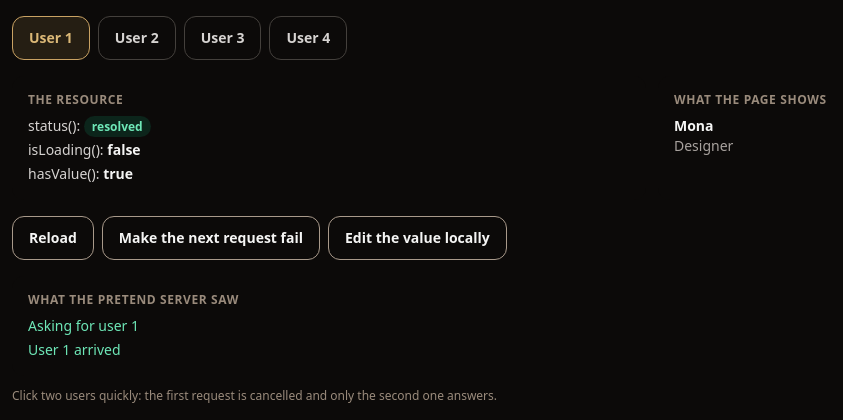
Scenario: ResourceDemoComponent › switches to "local" when the value is edited by hand
Click the button "Edit the value locally".
click(417, 238)  # box [328, 216, 507, 260]
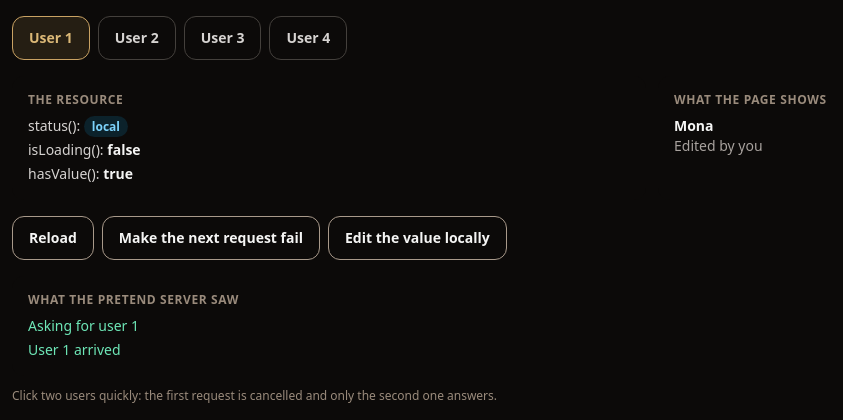
Expected: the text "local" is shown, [84, 116, 128, 137]
Expected: the text "Edited by you" is shown, [674, 136, 763, 155]
